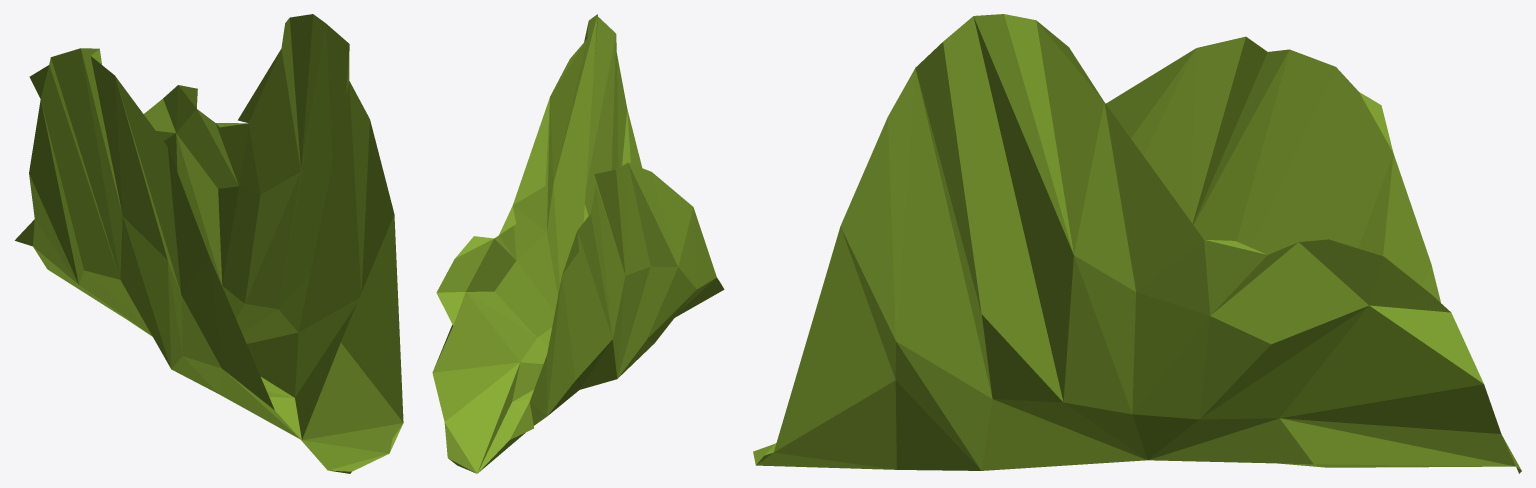
File: stm_env_DroopyTreeThing.fbx
3 views of the same model, side by side, from view 1: azimuth 30°, elevation 25°; view 2: azimuth 150°, elevation 25°; view 3: azimuth 270°, elevation 25° (orthographic). The views are drawn at different scales.
Visible parts, largest first — view 1: Tree_Droop_Thing; view 2: Tree_Droop_Thing; view 3: Tree_Droop_Thing.
Part boxes in pixels (x1,y1,x2,y2): Tree_Droop_Thing: (15, 14, 403, 473); Tree_Droop_Thing: (432, 14, 724, 473); Tree_Droop_Thing: (753, 14, 1521, 473).
Size of the model in its own units: 58.65 by 141 by 199.
